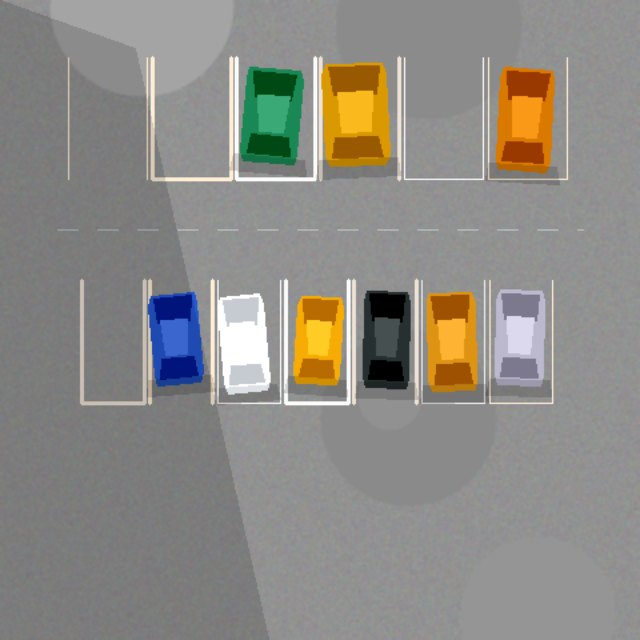space-empty: (68, 57, 147, 179), (152, 57, 231, 179), (404, 57, 483, 179), (81, 280, 144, 403)
space-occupied: (236, 57, 315, 179), (320, 57, 399, 179), (488, 57, 567, 179), (149, 280, 212, 403), (217, 280, 280, 403), (285, 280, 348, 403), (353, 280, 416, 403), (421, 280, 484, 403), (489, 280, 552, 403)
